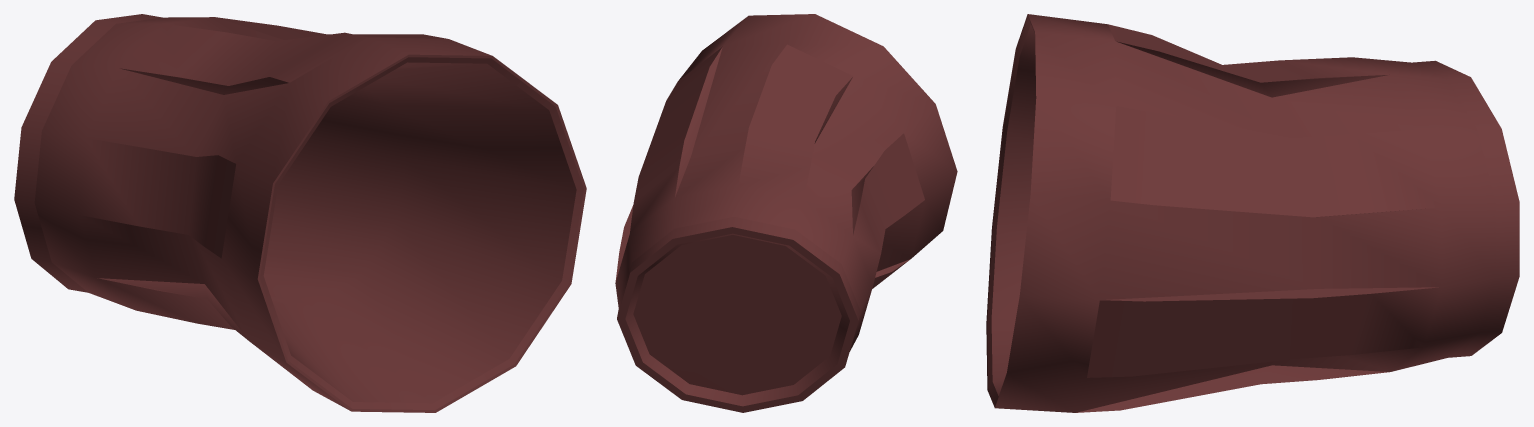
Rendered from calleTachoRoto.fbx.
3 renders of one model, left to right at view 1: azimuth 30°, elevation 25°; view 2: azimuth 150°, elevation 25°; view 3: azimuth 270°, elevation 25°, orthographic. The views are drawn at different scales.
Parts seen in each view (by area): view 1: TachoRoto; view 2: TachoRoto; view 3: TachoRoto.
Part boxes in pixels (left/top/right/bottom): TachoRoto: left=14, top=14, right=586, bottom=412; TachoRoto: left=615, top=14, right=957, bottom=412; TachoRoto: left=986, top=14, right=1519, bottom=412.
Size of the model in its own units: 0.00963 by 0.00813 by 0.0108.
